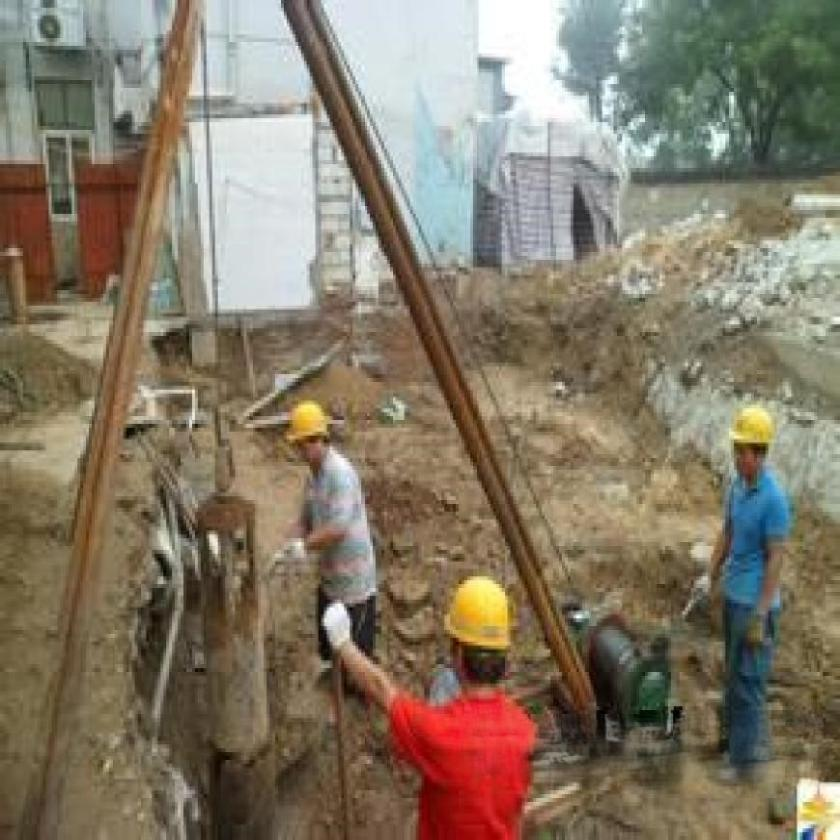Con_casco: (722, 384, 780, 489), (286, 386, 331, 487)
